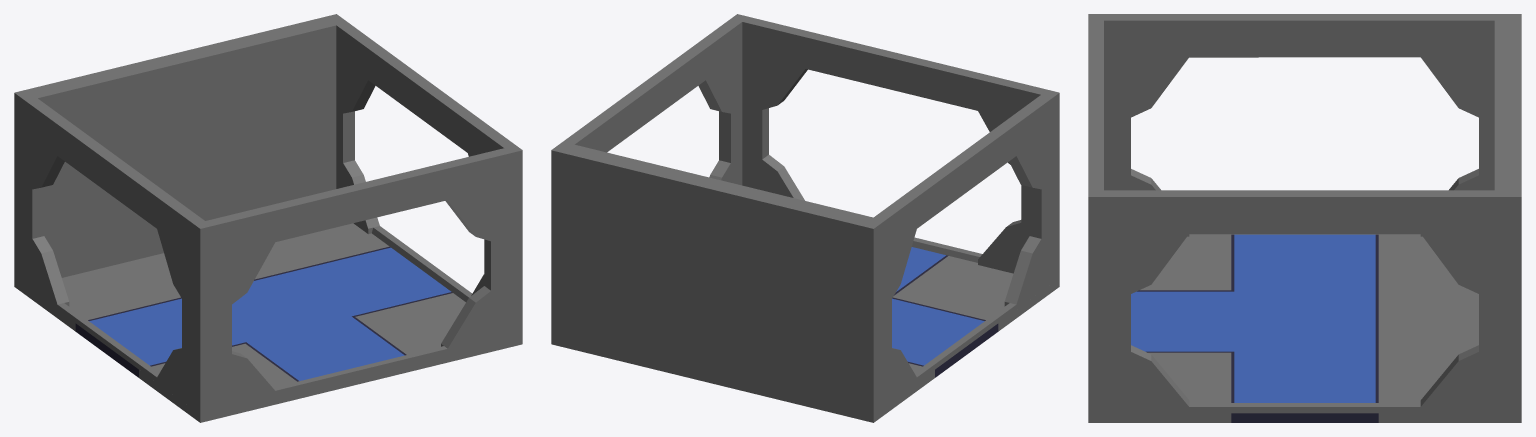
File: Path_T.glb
3 renders of one model, left to right at view 1: azimuth 30°, elevation 25°; view 2: azimuth 150°, elevation 25°; view 3: azimuth 270°, elevation 25°, orthographic. The views are drawn at different scales.
Parts seen in each view (by area): view 1: Path_T; view 2: Path_T; view 3: Path_T.
Part boxes in pixels (<box>): Path_T: <box>14,14,522,422</box>; Path_T: <box>551,14,1059,422</box>; Path_T: <box>1088,14,1521,422</box>.
Size of the model in its own units: 8 by 4.6 by 8.
